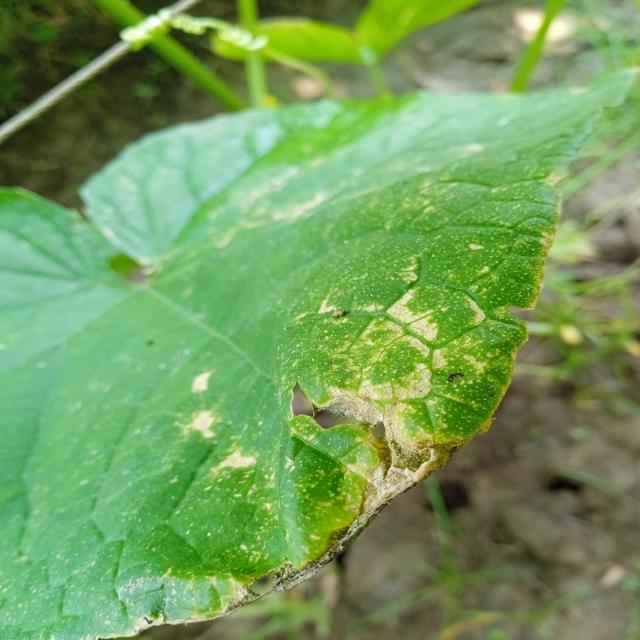cucumber_gummy: (0, 61, 640, 640)
